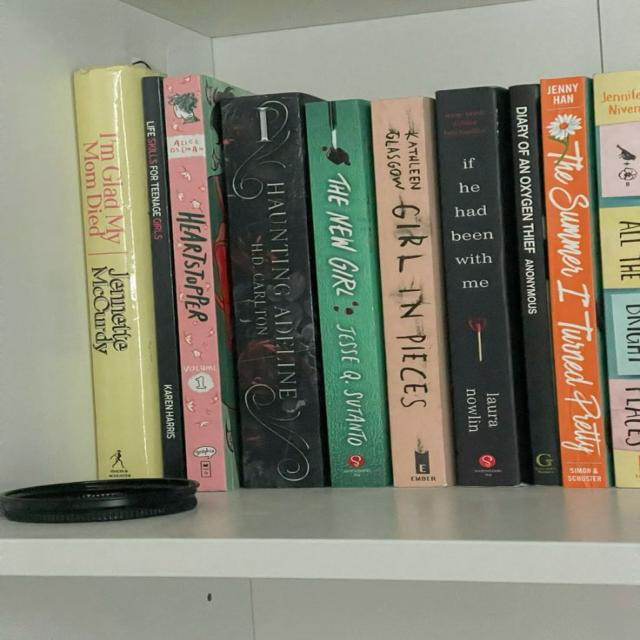book: (217, 93, 329, 488), (435, 87, 530, 486), (72, 64, 162, 478), (157, 74, 238, 491), (306, 100, 390, 487), (374, 98, 453, 487), (541, 76, 609, 487), (510, 84, 561, 485), (594, 71, 639, 488), (143, 76, 186, 478)
